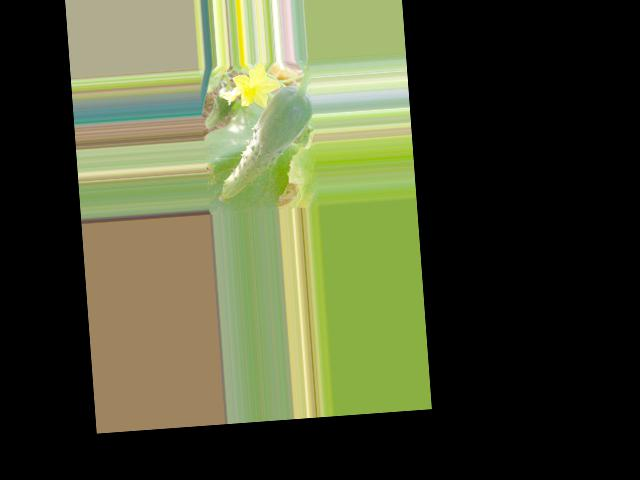cucumber: (210, 84, 318, 201)
